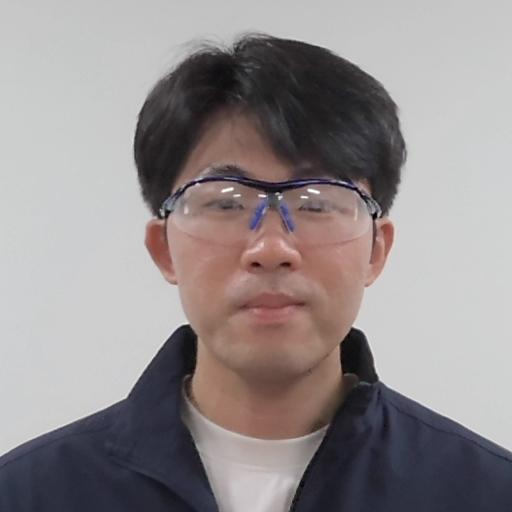glasses: (128, 34, 421, 395)
